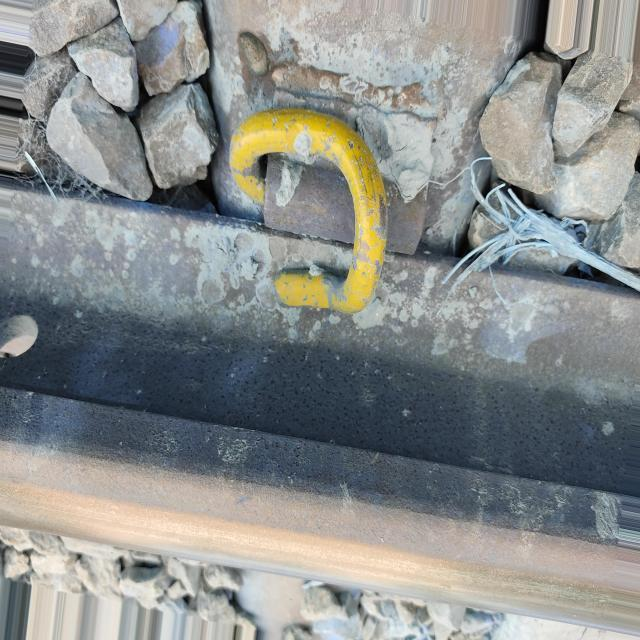Good Fasteners: (203, 0, 474, 342)
